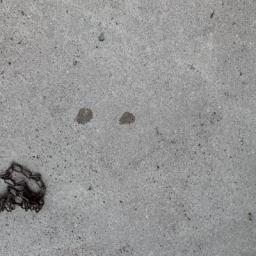FOD: (1, 161, 49, 226)
